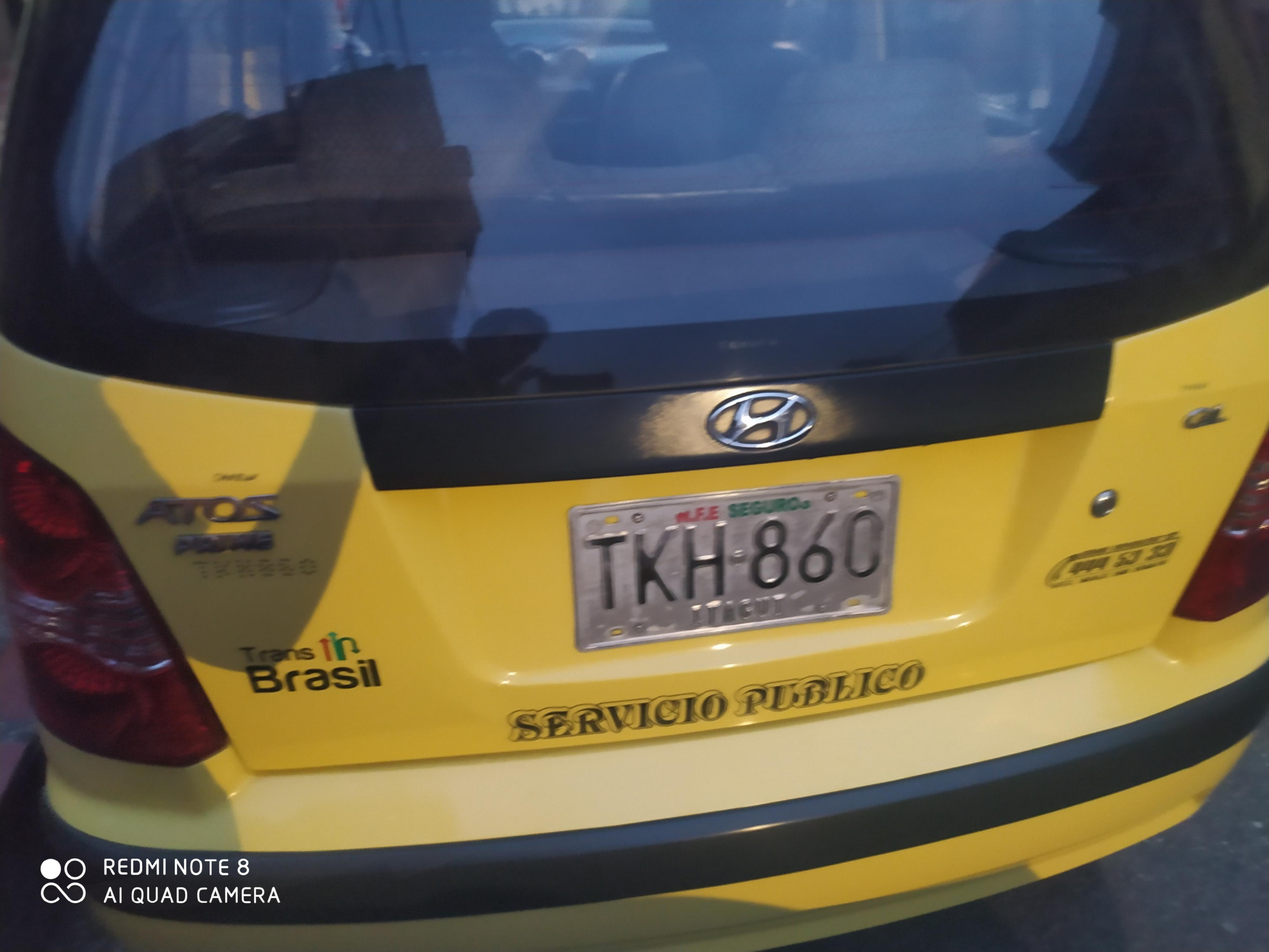placa: (555, 474, 910, 656)
